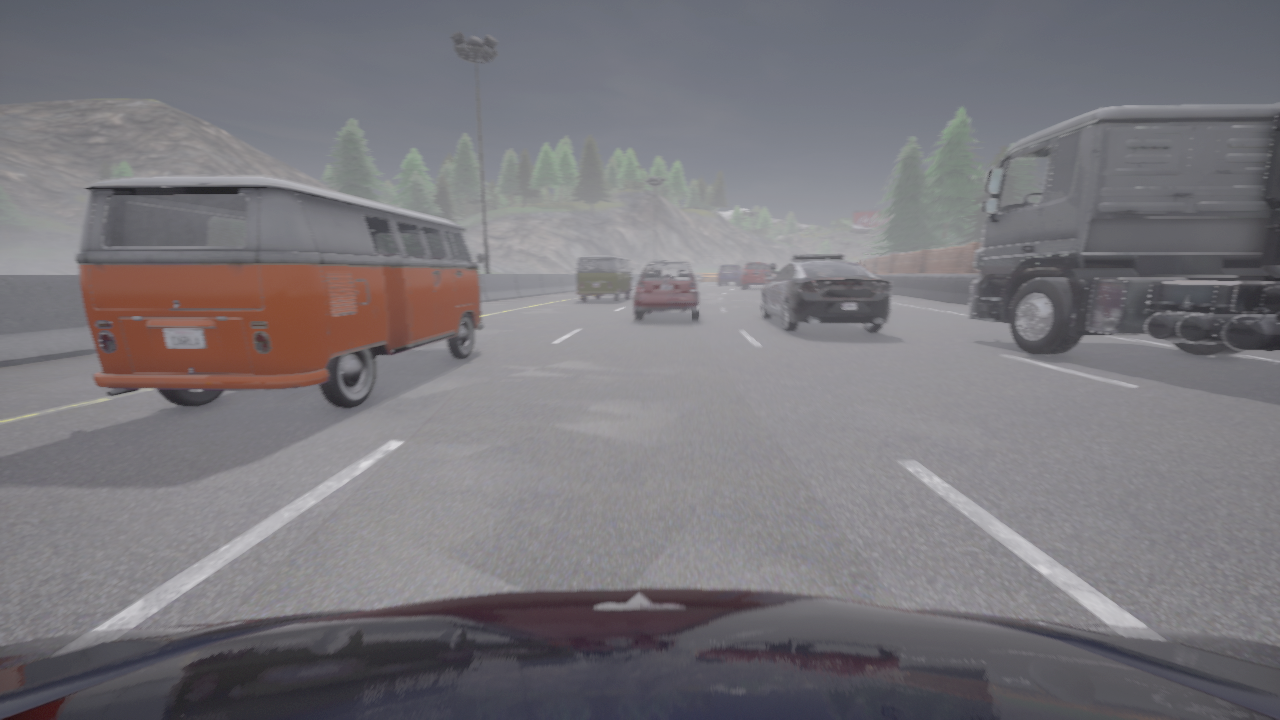cyclist: (0, 588, 1279, 719), (75, 175, 483, 408), (968, 103, 1279, 355), (762, 254, 892, 332), (634, 260, 701, 320), (577, 255, 633, 301), (742, 262, 773, 288), (718, 265, 743, 285)
